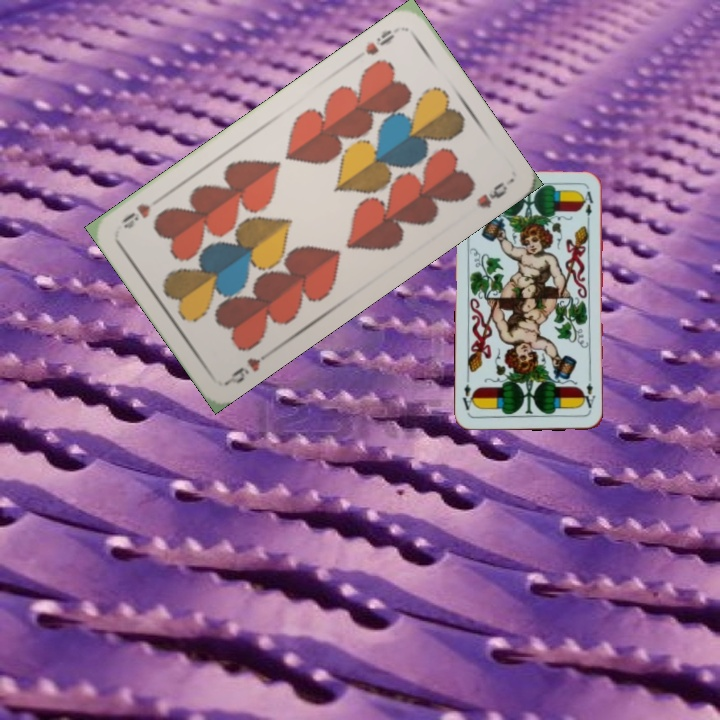EA: (578, 373, 598, 414)
H9: (223, 347, 275, 387), (361, 25, 397, 58)
